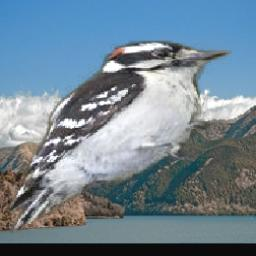Woodpecker: (10, 42, 232, 235)
